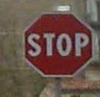stop: (19, 9, 96, 78)
